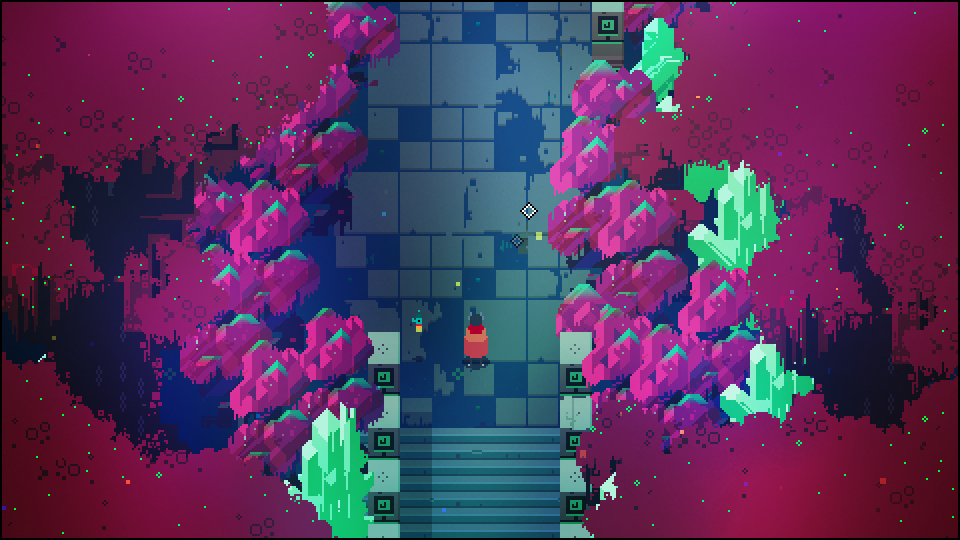player: (464, 313, 491, 371)
